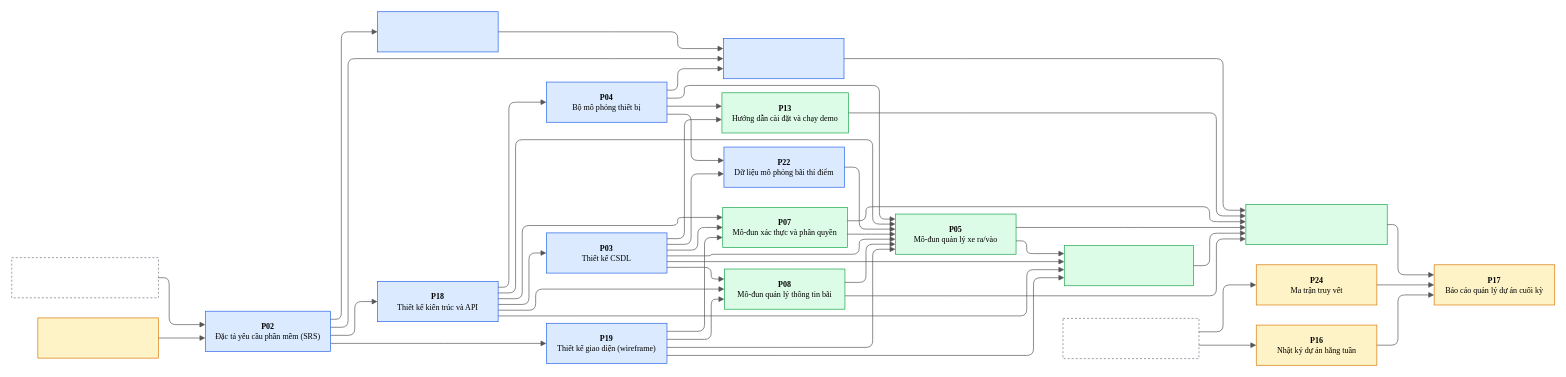
This 1566x377 diagram has some shape labels left out. The box of each missing label's shape, as (x1, y1, x2, y2) in pixels:
P01 Project Baseline V1.0 (báo cáo M2): (1062, 318, 1199, 359)
P09 Mô-đun hiển thị tình trạng chỗ đỗ: (1064, 245, 1194, 286)
P14 Báo cáo kết quả kiểm thử nghiệm thu: (1245, 204, 1387, 245)
P15 Client Interaction Log: (37, 317, 158, 358)
P20 Kế hoạch kiểm thử: (377, 11, 498, 52)
P21 Bộ test nghiệm thu: (723, 38, 844, 79)
P23 Tài liệu định nghĩa dự án (báo cáo M1): (11, 257, 158, 298)
